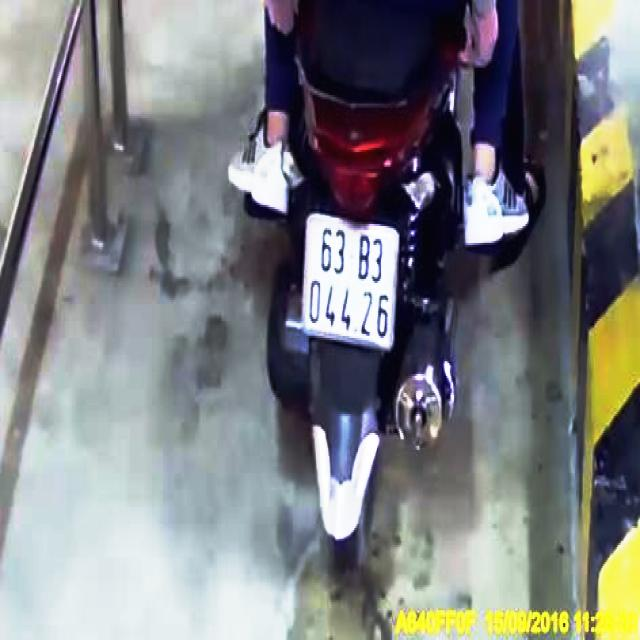license_plate: (304, 215, 400, 346)
